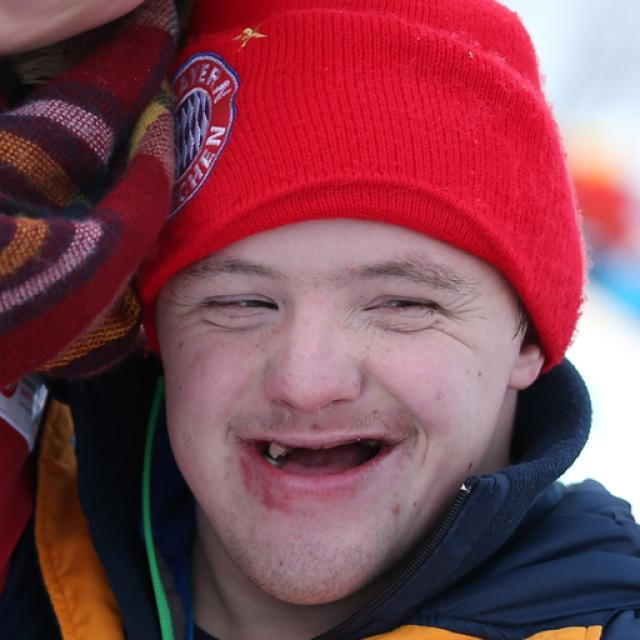happy: (152, 198, 509, 602)
